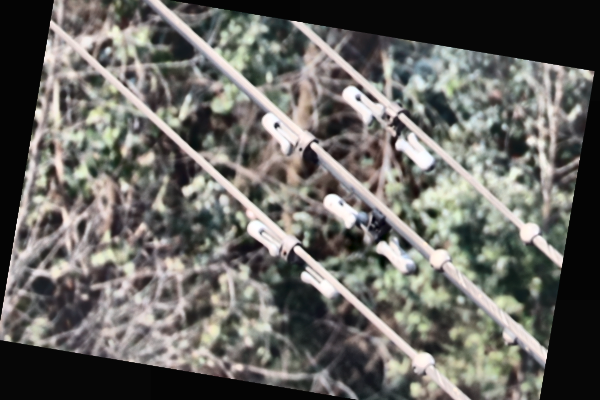damper: (339, 78, 438, 172), (319, 189, 417, 275), (244, 216, 340, 301)
damper_defect: (255, 110, 323, 170)
